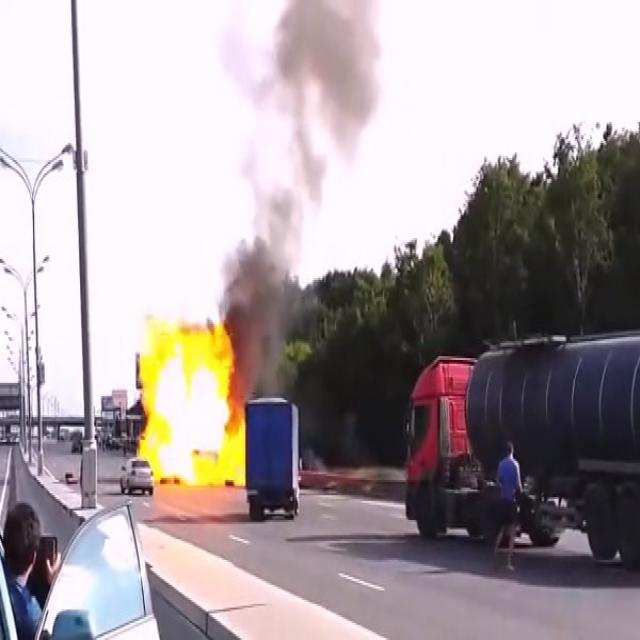fire: (139, 310, 245, 488)
